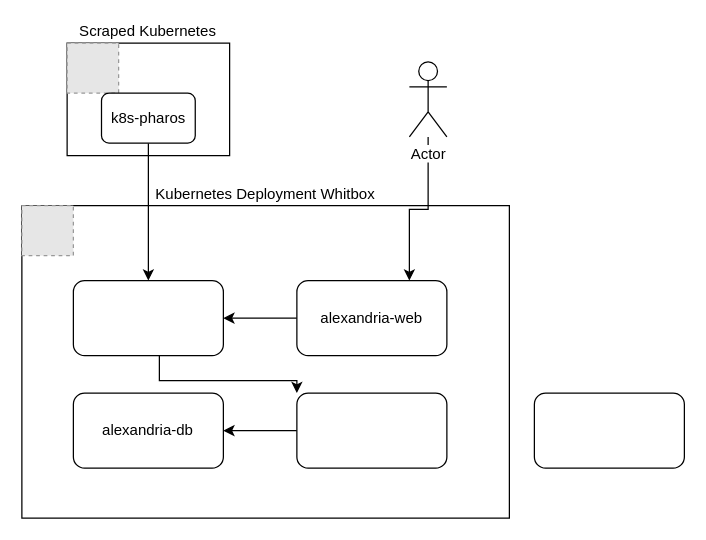
Some shapes in this 706 by 540 pixel diagram are drawn without their labels. Grey dashed boxes stand in for pictures. Each missing label, with the centre of its shape:
alexandria-api: the point at 147,317
alexandria-back: the point at 371,430
namespace: the point at 608,430
